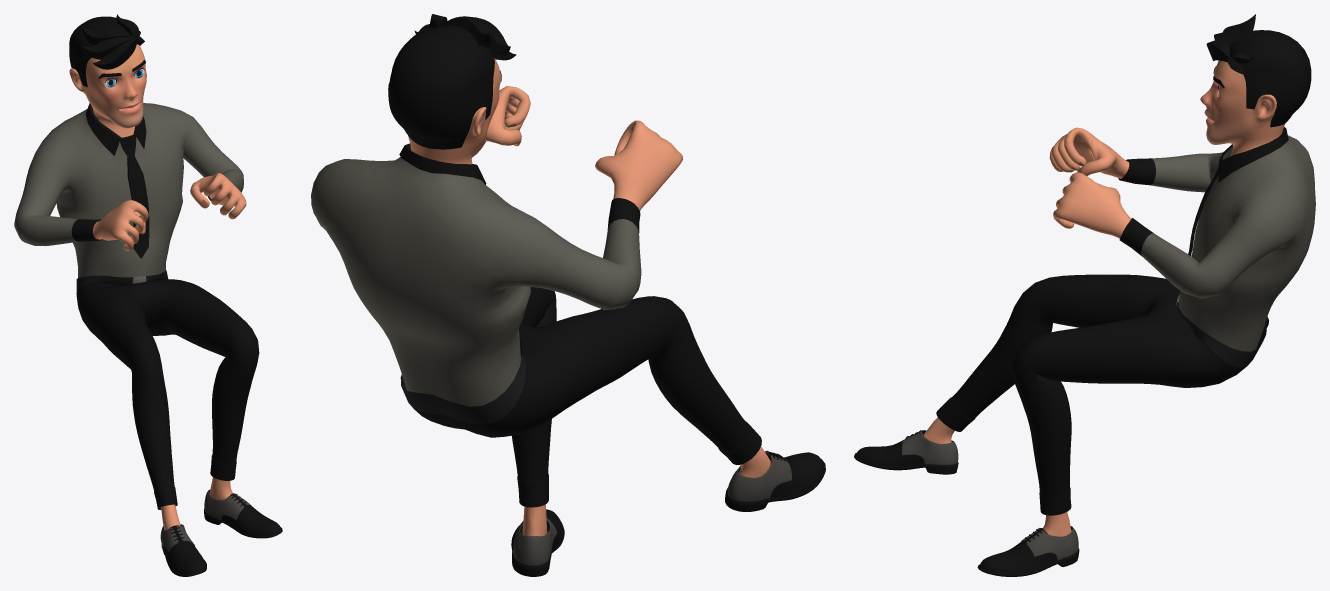
3 renders of one model, left to right at view 1: azimuth 30°, elevation 25°; view 2: azimuth 150°, elevation 25°; view 3: azimuth 270°, elevation 25°, orthographic. The views are drawn at different scales.
Visible parts, largest first — view 1: D_1_mesh.002, D_3_mesh.004, Body_Vucud.001, Shoes_shoe_dress_v2.001, Hair_NurbsPath.006, D_2_mesh.005; view 2: D_1_mesh.002, D_3_mesh.004, Hair_NurbsPath.006, Body_Vucud.001, Shoes_shoe_dress_v2.001; view 3: D_3_mesh.004, D_1_mesh.002, Body_Vucud.001, Hair_NurbsPath.006, Shoes_shoe_dress_v2.001.
Part boxes in pixels (x1,y1,x2,y2): D_1_mesh.002: (14, 103, 243, 278); D_3_mesh.004: (76, 270, 259, 509); Body_Vucud.001: (69, 44, 246, 530); Shoes_shoe_dress_v2.001: (160, 489, 282, 576); Hair_NurbsPath.006: (69, 14, 144, 87); D_2_mesh.005: (120, 134, 149, 258); D_1_mesh.002: (311, 143, 641, 406); D_3_mesh.004: (400, 287, 761, 507); Hair_NurbsPath.006: (388, 14, 516, 149); Body_Vucud.001: (388, 58, 770, 536); Shoes_shoe_dress_v2.001: (511, 450, 825, 576); D_3_mesh.004: (936, 274, 1268, 515); D_1_mesh.002: (1118, 127, 1315, 351); Body_Vucud.001: (923, 60, 1285, 536); Hair_NurbsPath.006: (1206, 14, 1311, 127); Shoes_shoe_dress_v2.001: (854, 430, 1079, 576).
Size of the model in its own units: 3.02 by 5.92 by 4.75.
3 materials, 3 textured.
